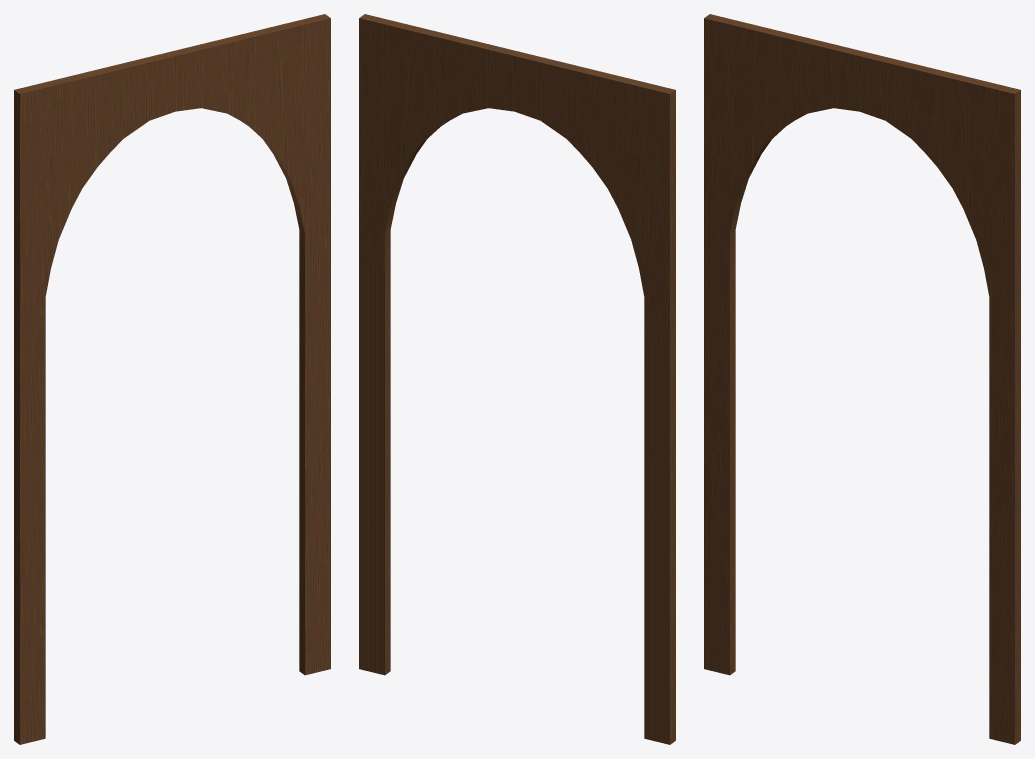
File: med-arco.gltf
The picture shows the model from 3 angles, left to right: view 1: azimuth 30°, elevation 25°; view 2: azimuth 150°, elevation 25°; view 3: azimuth 330°, elevation 25°; orthographic projection.
Parts seen in each view (by area): view 1: Wall_Arch; view 2: Wall_Arch; view 3: Wall_Arch.
Part boxes in pixels (box(x1,y1,x2,y2)): Wall_Arch: box(14, 14, 330, 744); Wall_Arch: box(359, 14, 675, 744); Wall_Arch: box(704, 14, 1020, 744).
Size of the model in its own units: 1 by 2 by 0.032.
1 material, 1 textured.
